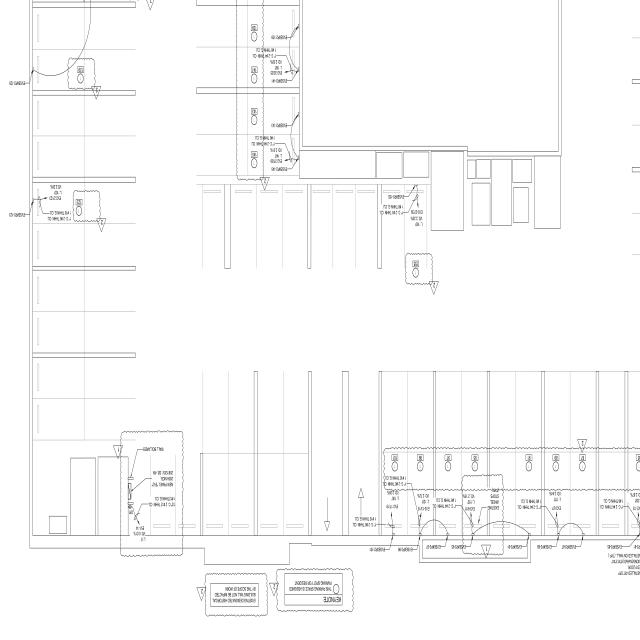gfi: (128, 504, 132, 508)
panel: (126, 482, 132, 501)
